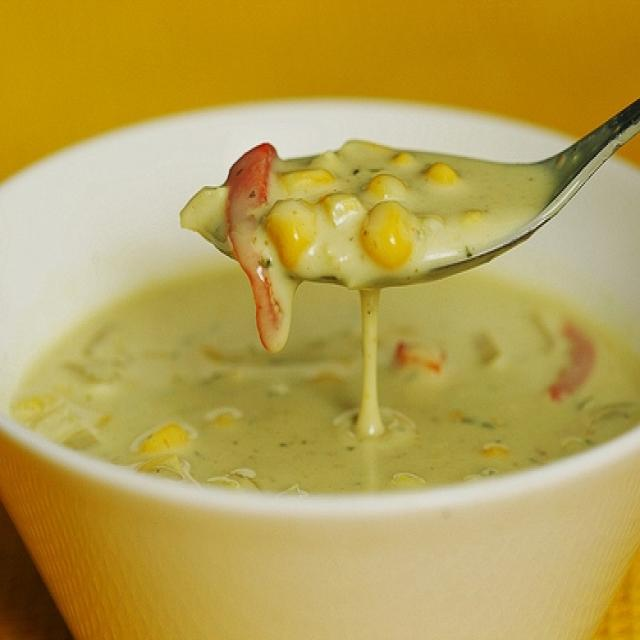汤锅炖物: (26, 78, 620, 548)
